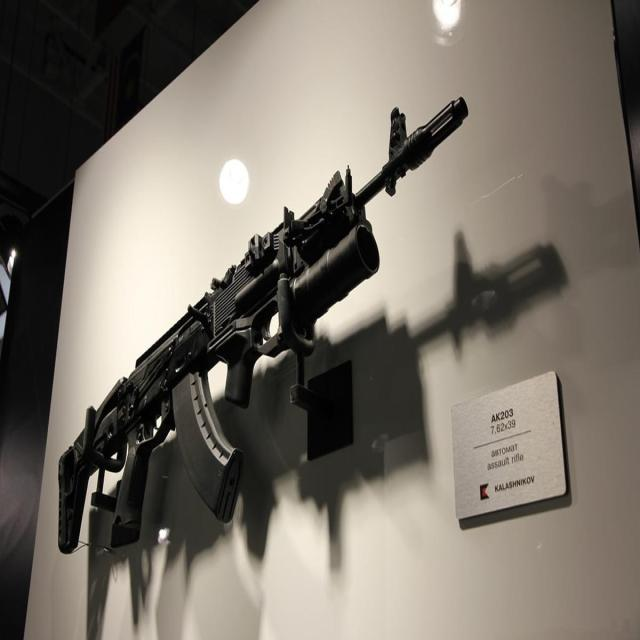weapon: (54, 78, 478, 636)
